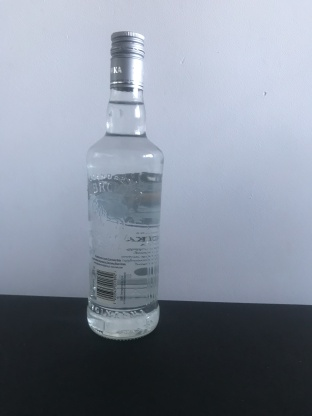nakretka: (109, 27, 145, 94)
